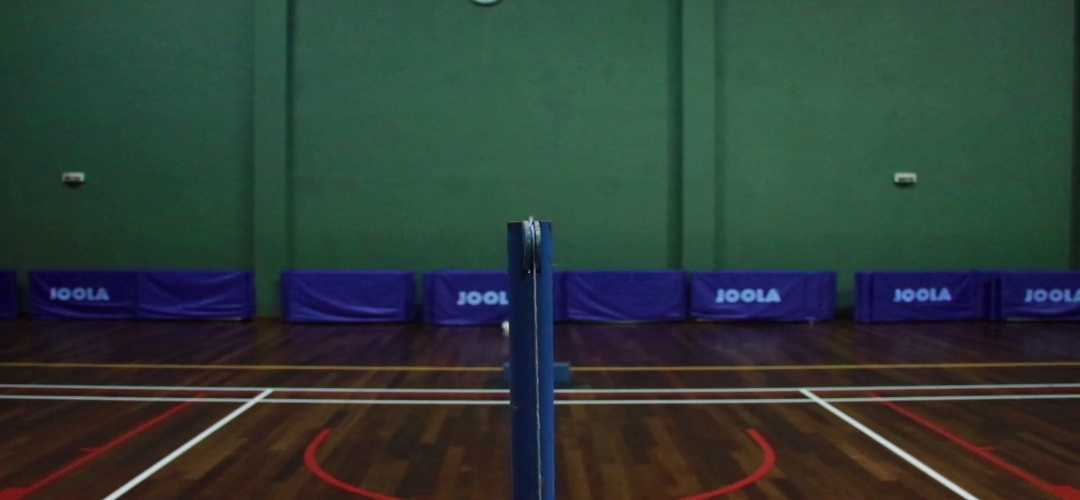c1: (237, 394, 274, 410)
c2: (790, 395, 852, 410)
net_level: (507, 221, 555, 287)
